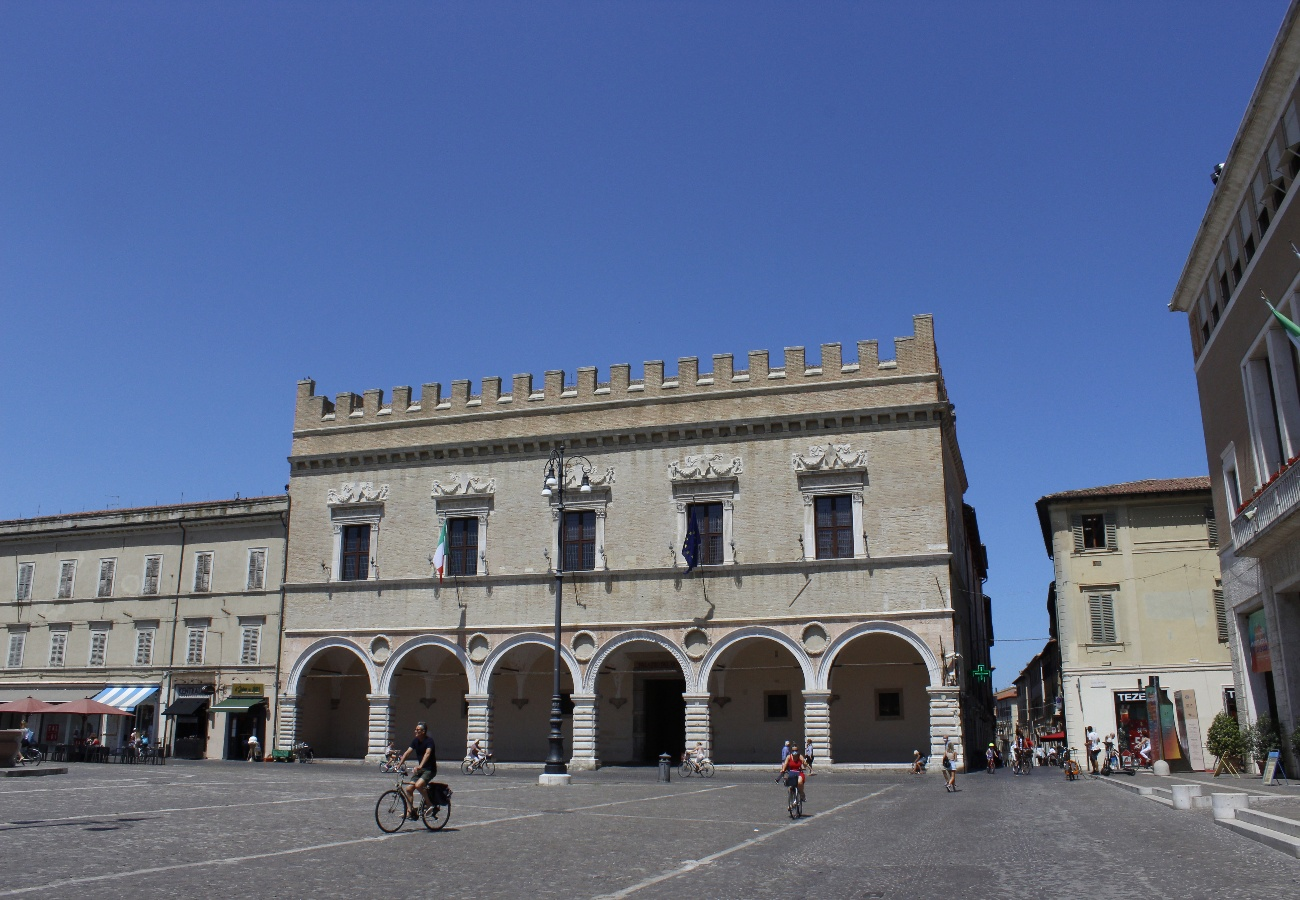Palazzo Ducale: (272, 310, 940, 765)
